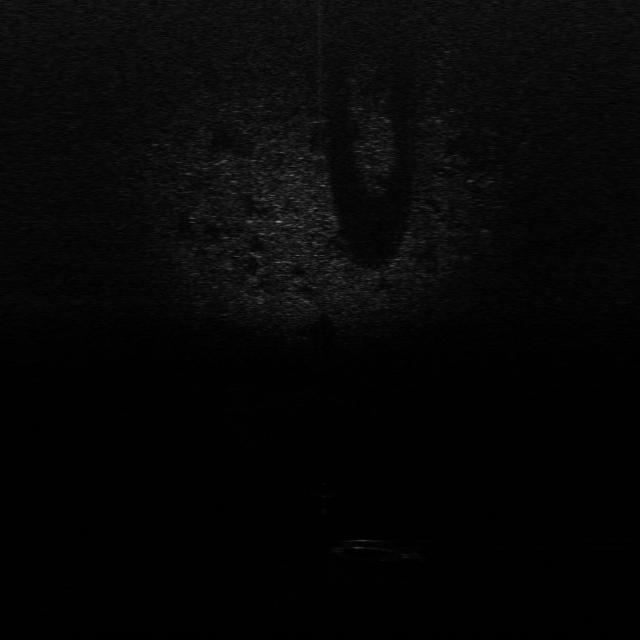ball: (313, 480, 338, 498)
tyre: (331, 533, 417, 566)
